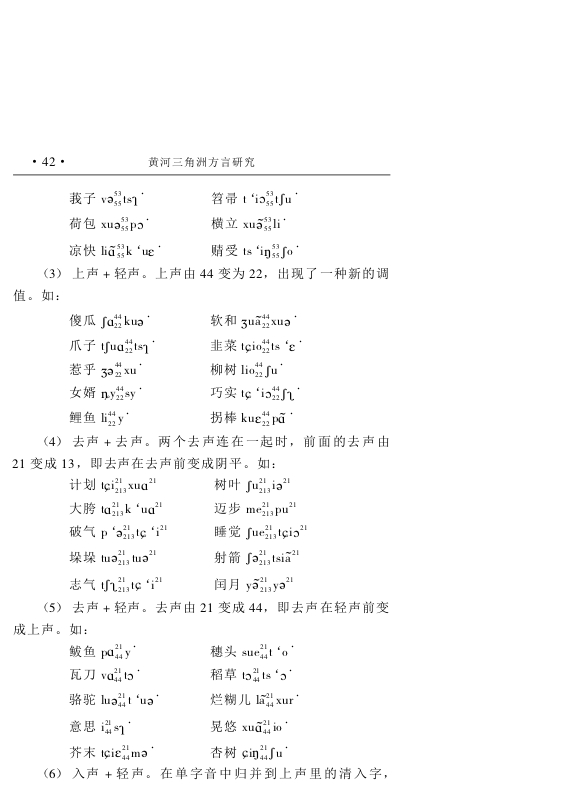table: (69, 478, 306, 592), (69, 313, 301, 425), (69, 644, 293, 760), (69, 191, 299, 259)
